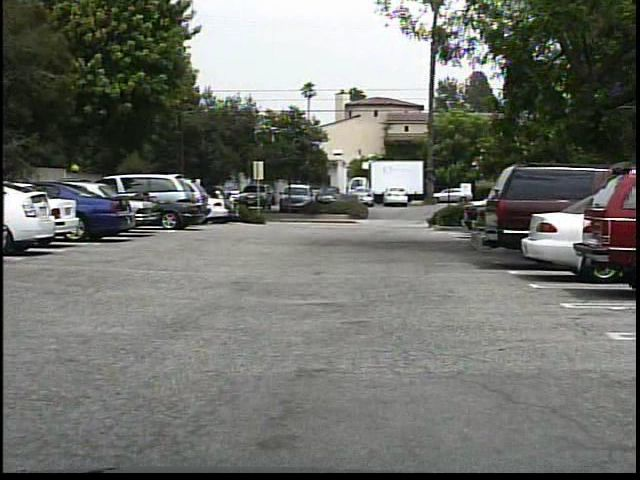person: (211, 187, 229, 219), (225, 192, 238, 221), (222, 190, 234, 219)
